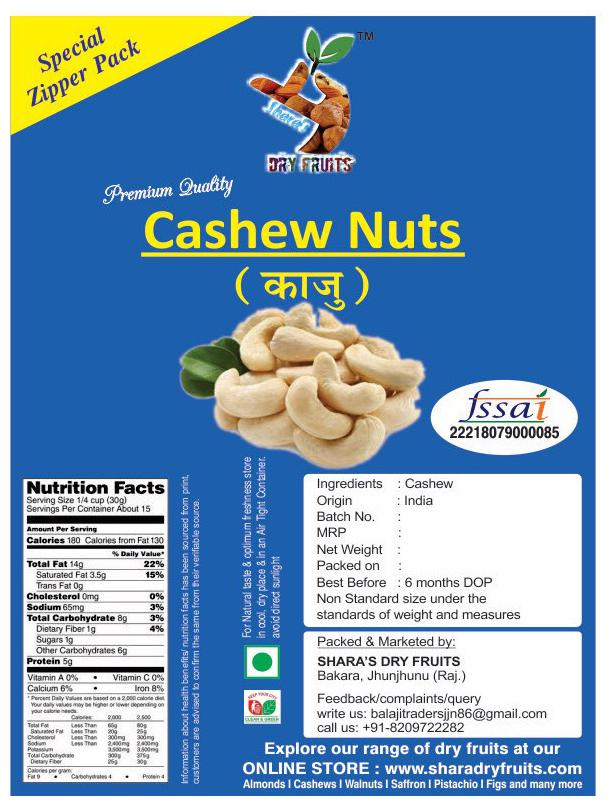fssai: (460, 388, 549, 423)
